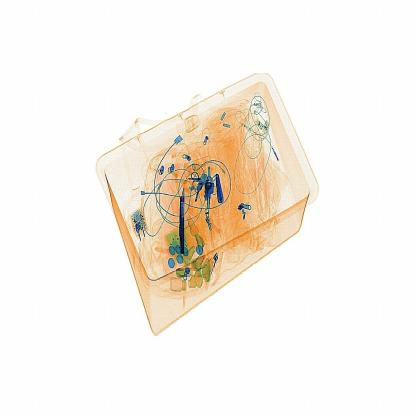pliers: (175, 191, 187, 258)
